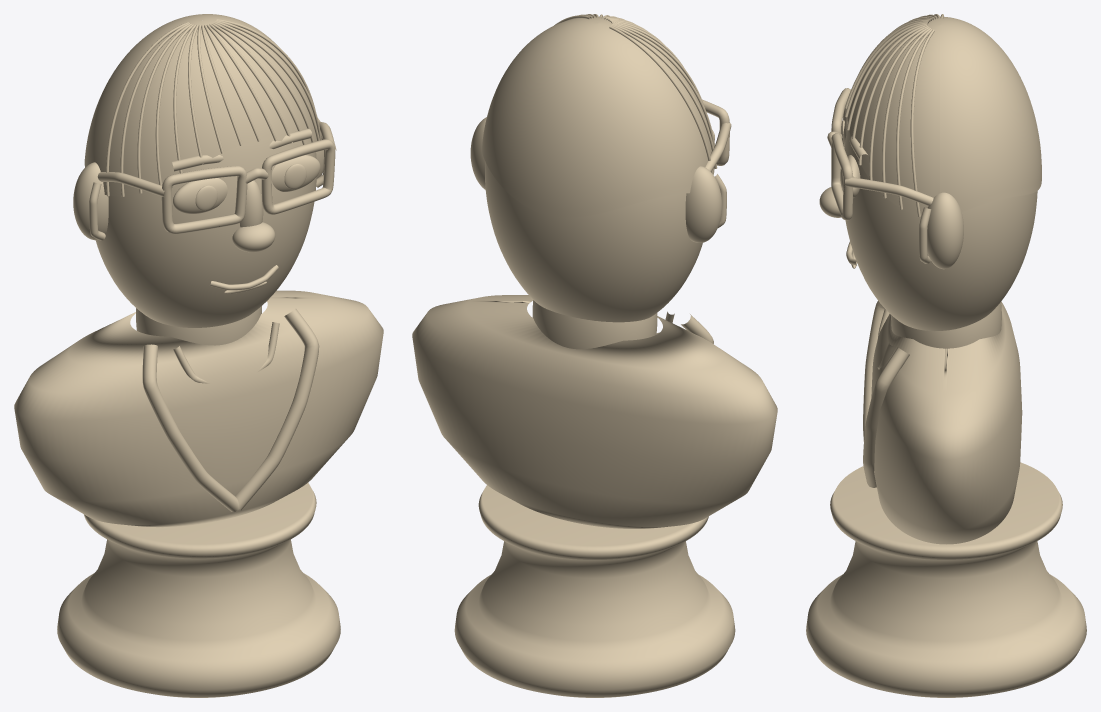
The model's file is portrait-plaster.glb.
3 views of the same model, side by side, from view 1: azimuth 30°, elevation 25°; view 2: azimuth 150°, elevation 25°; view 3: azimuth 270°, elevation 25° (orthographic).
Visible parts, largest first — view 1: Sweater_shoulders, Chess_pedestal, Swept_hair_cap, Head, V_neck_trim (×2), Thick_rectangular_glasses (×2), Hair_sweep_detail (×4), Neck, Eye (×2), Left_ear, Nose_tip, Nose_bridge (+2 smaller); view 2: Sweater_shoulders, Chess_pedestal, Swept_hair_cap, Head, Neck, Left_ear, Hair_sweep_detail (×2), Right_ear; view 3: Chess_pedestal, Sweater_shoulders, Swept_hair_cap, Head, Hair_sweep_detail (×7), V_neck_trim (×2), Right_ear, Neck, Thick_rectangular_glasses (×2), Glasses_temple, Ear_rim.
Part boxes in pixels (x1=…): Sweater_shoulders: x1=14, y1=290, x2=383, y2=527; Chess_pedestal: x1=57, y1=483, x2=340, y2=697; Swept_hair_cap: x1=84, y1=14, x2=317, y2=196; Head: x1=95, y1=140, x2=316, y2=327; V_neck_trim (×2): x1=142, y1=308, x2=319, y2=512; Thick_rectangular_glasses (×2): x1=161, y1=139, x2=335, y2=234; Hair_sweep_detail (×4): x1=106, y1=22, x2=193, y2=196; Neck: x1=136, y1=306, x2=261, y2=345; Eye (×2): x1=173, y1=155, x2=320, y2=213; Left_ear: x1=73, y1=162, x2=108, y2=240; Nose_tip: x1=232, y1=222, x2=275, y2=252; Nose_bridge: x1=240, y1=180, x2=263, y2=227; Sweater_shoulders: x1=412, y1=295, x2=777, y2=528; Chess_pedestal: x1=454, y1=485, x2=735, y2=697; Swept_hair_cap: x1=482, y1=16, x2=714, y2=217; Head: x1=485, y1=161, x2=702, y2=322; Neck: x1=532, y1=300, x2=657, y2=349; Left_ear: x1=685, y1=166, x2=721, y2=242; Hair_sweep_detail (×2): x1=609, y1=25, x2=717, y2=174; Right_ear: x1=470, y1=117, x2=486, y2=189; Chess_pedestal: x1=806, y1=462, x2=1086, y2=697; Sweater_shoulders: x1=871, y1=301, x2=1022, y2=544; Swept_hair_cap: x1=847, y1=16, x2=1041, y2=215; Head: x1=843, y1=130, x2=1037, y2=331; Hair_sweep_detail (×7): x1=846, y1=23, x2=934, y2=216; V_neck_trim (×2): x1=863, y1=301, x2=909, y2=487; Right_ear: x1=927, y1=192, x2=963, y2=269; Neck: x1=891, y1=302, x2=1001, y2=348; Thick_rectangular_glasses (×2): x1=831, y1=88, x2=853, y2=220; Glasses_temple: x1=845, y1=177, x2=933, y2=206; Ear_rim: x1=919, y1=207, x2=931, y2=263.
Bounding box in the file's own units: 2.24 × 3.72 × 1.52.
